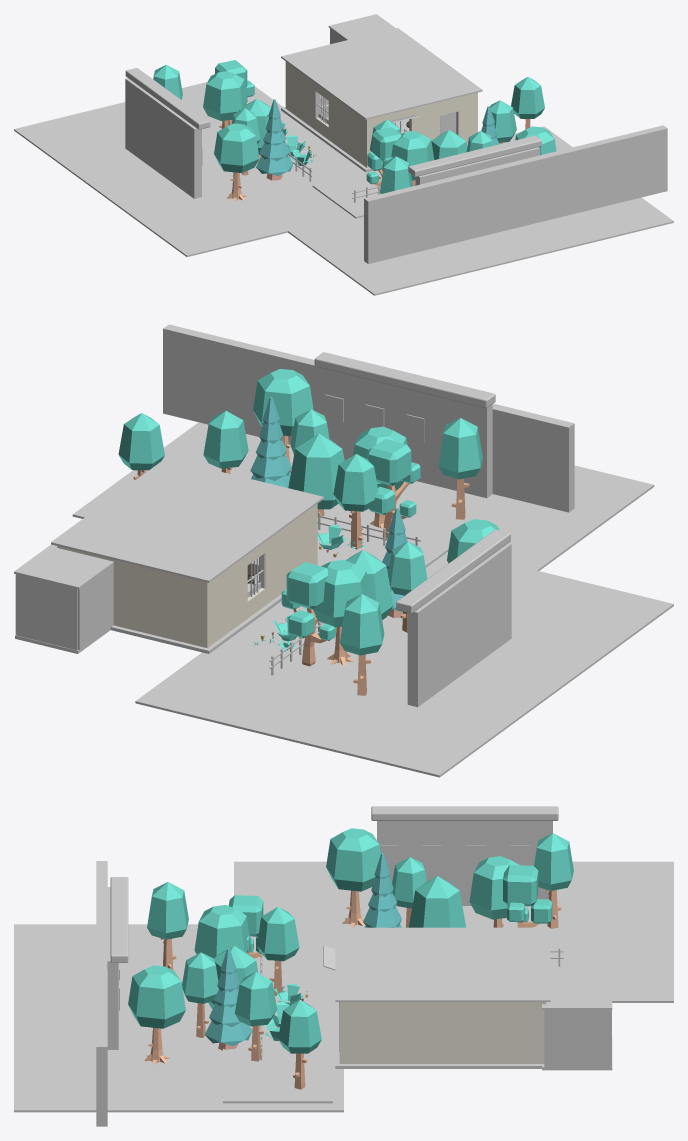
The model's file is bakery.glb.
3 renders of one model, top to bottom at view 1: azimuth 30°, elevation 25°; view 2: azimuth 150°, elevation 25°; view 3: azimuth 270°, elevation 25°, orthographic. The views are drawn at different scales.
Parts seen in each view (by area): view 1: grass, house_far, k_leafsGreen, ceiling, wall, roof_far, k_leafsDark, sidewalk, floor_tile, k_woodBark, k_grass; view 2: grass, house_far, k_leafsGreen, ceiling, wall, wall_next, roof_far, k_woodBark, k_leafsDark, sidewalk, window_far, floor_tile (+2 smaller); view 3: grass, k_leafsGreen, ceiling, wall, house_far, sidewalk, roof_far, k_leafsDark, wall_next, k_woodBark, window_far, floor_tile (+1 smaller).
Part boxes in pixels (x1,y1,x2,y2): grass: (14, 82, 673, 295); house_far: (125, 78, 667, 263); k_leafsGreen: (153, 60, 556, 193); ceiling: (281, 14, 482, 119); wall: (285, 61, 477, 167); roof_far: (125, 68, 541, 176); k_leafsDark: (256, 99, 499, 175); sidewalk: (312, 136, 562, 218); floor_tile: (281, 107, 467, 172); k_woodBark: (219, 119, 530, 201); k_grass: (281, 121, 315, 165); grass: (72, 422, 673, 777); house_far: (163, 324, 574, 707); k_leafsGreen: (118, 369, 499, 655); ceiling: (14, 458, 323, 589); wall: (57, 504, 317, 647); wall_next: (15, 564, 113, 650); roof_far: (314, 352, 510, 613); k_woodBark: (133, 435, 469, 695); k_leafsDark: (250, 397, 407, 611); sidewalk: (317, 511, 449, 567); window_far: (324, 394, 424, 442); floor_tile: (110, 557, 320, 653); grass: (14, 861, 673, 1112); k_leafsGreen: (128, 828, 573, 1053); ceiling: (335, 927, 612, 1009); wall: (339, 1002, 546, 1063); house_far: (96, 821, 552, 1126); sidewalk: (223, 962, 332, 1103); roof_far: (110, 806, 558, 962); k_leafsDark: (204, 853, 401, 1045); wall_next: (544, 1010, 611, 1067); k_woodBark: (144, 889, 561, 1089); window_far: (119, 845, 529, 1010); floor_tile: (335, 1002, 541, 1068).
Size of the model in its own units: 57 by 10.1 by 60.
